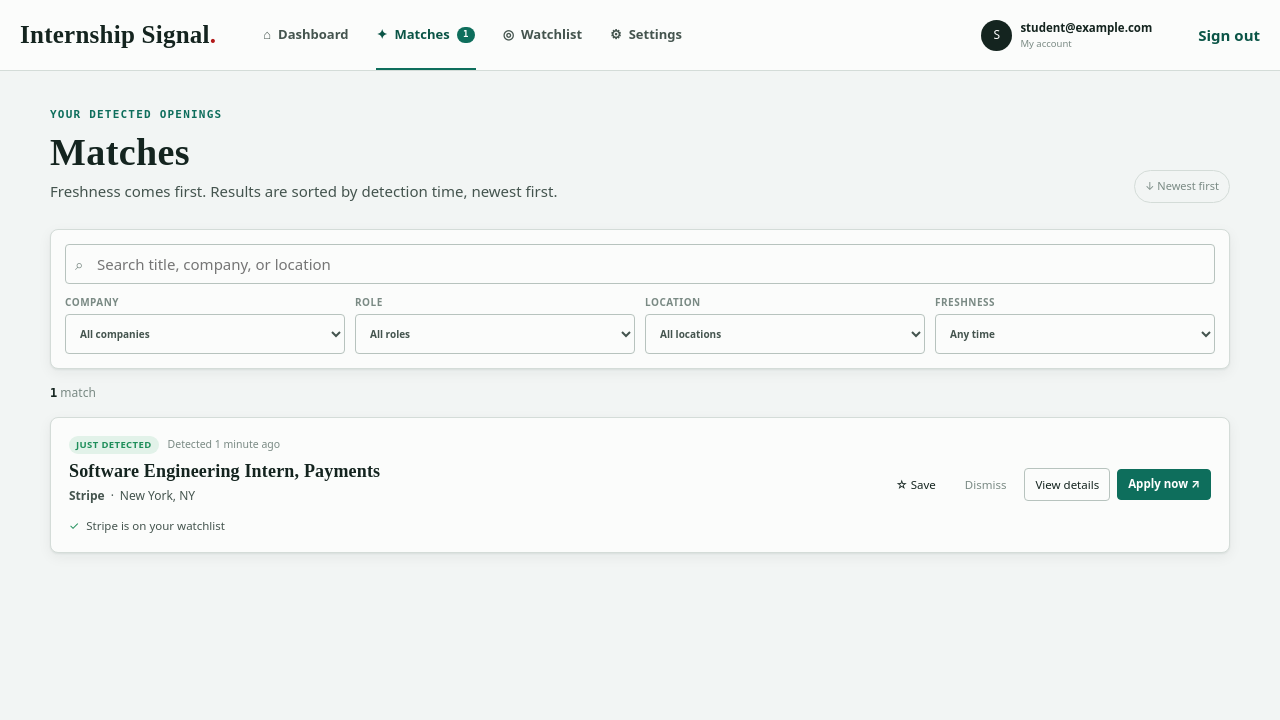
Test case: hosted match views › persists a save through the API and reflects it in the UI
Expected: the heading "Software Engineering Intern, Payments" is shown, 69,460 -> 380,482
What coordinates should you click on to do the following:
click the button "☆ Save"
I would click on:
 (916, 485)
Its box is 885,468 -> 947,502.
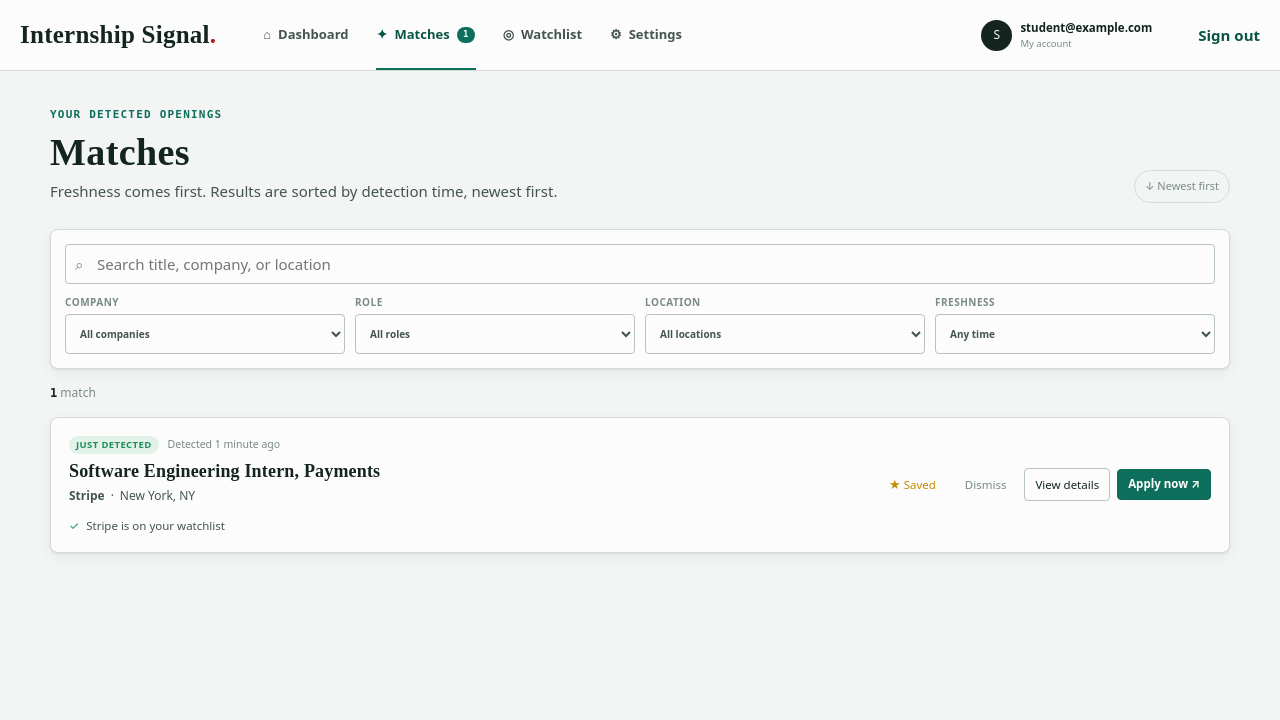
Now the button "★ Saved" is shown, box 878,468 -> 947,502
